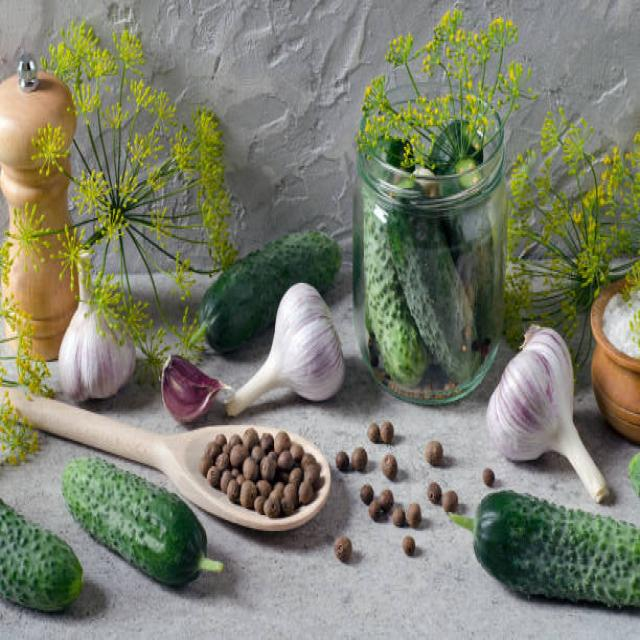cucumber: (474, 486, 640, 611), (64, 450, 205, 588), (197, 224, 342, 351), (0, 497, 82, 609)
